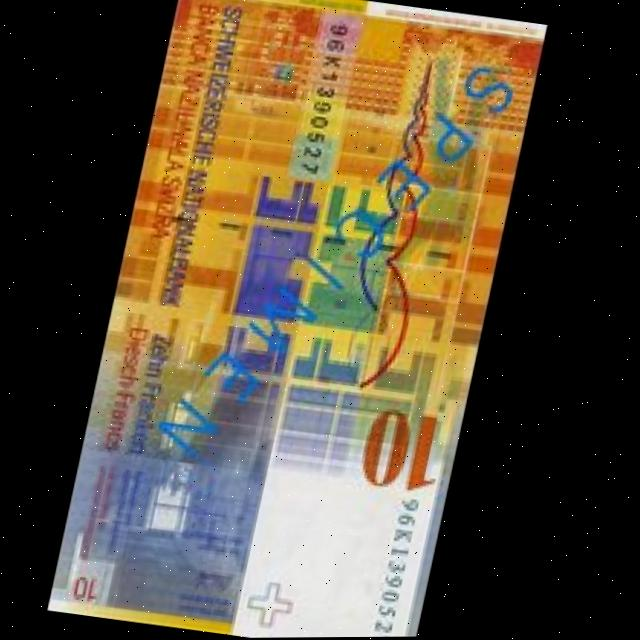banknote: (55, 0, 547, 639), (344, 398, 461, 501), (64, 563, 121, 615)
